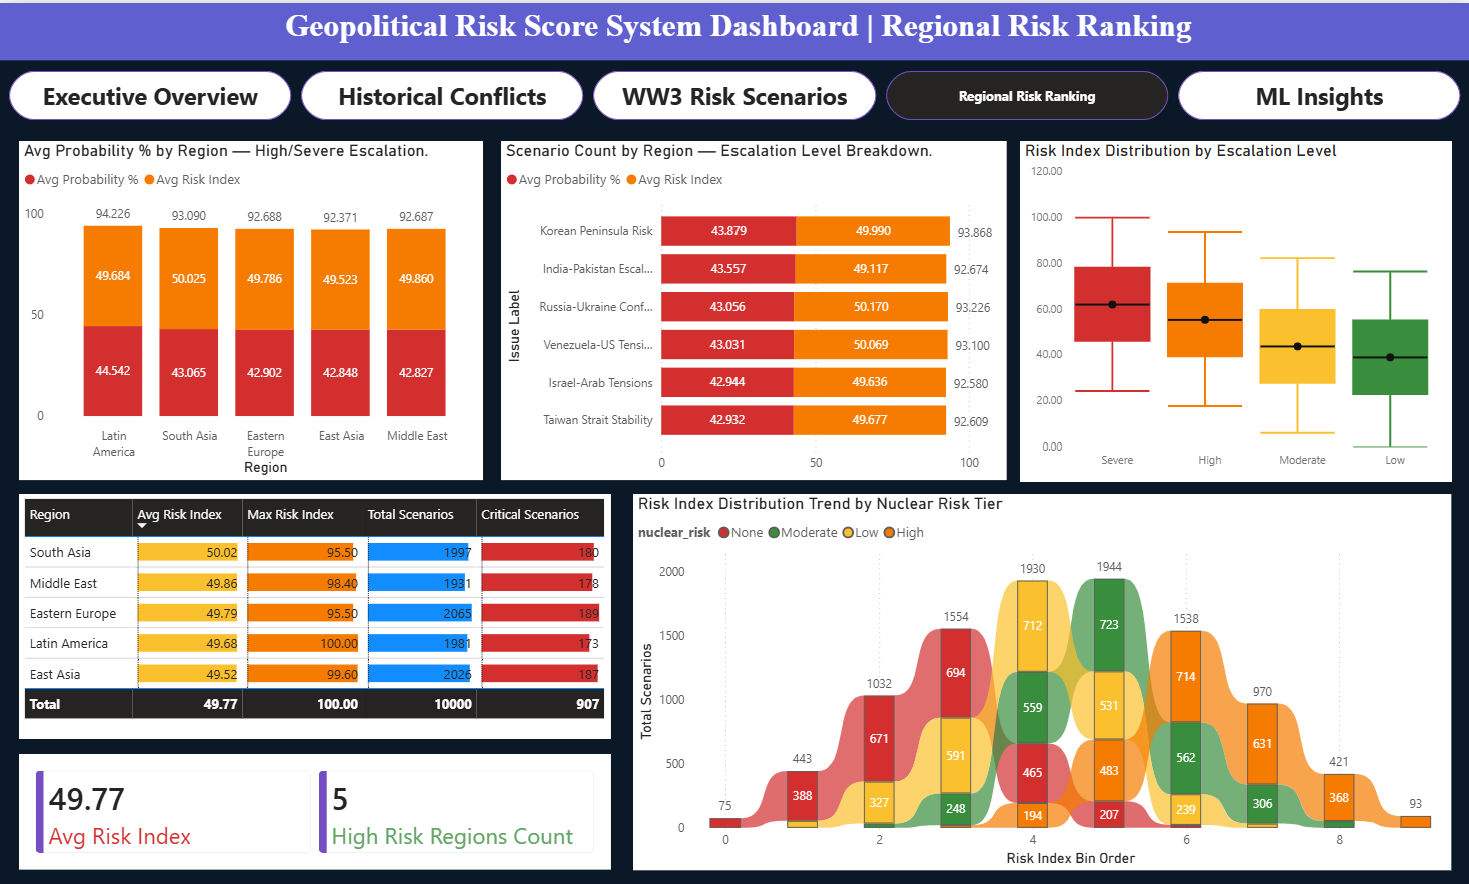

The page's visual inventory and layout, read from the dashboard file:
{"tool":"powerbi","page":{"name":"Regional Risk Ranking","canvas":[1500,900],"ordinal":3},"visuals":[{"type":"textbox","box":[0,0,1500,58.6],"z":0},{"type":"columnChart","title":"Avg Probability % by Region — High/Severe Escalation.","fields":{"Category":["FactRisk.region"],"Y":["_Measure.Avg Probability %","_Measure.Avg Risk Index"]},"box":[20,140,473.3,345],"z":1000},{"type":"barChart","title":"Scenario Count by Region — Escalation Level Breakdown.","fields":{"Y":["_Measure.Avg Probability %","_Measure.Avg Risk Index"],"Category":["FactRisk.issue_label"]},"box":[511.7,140,515,345],"z":2000},{"type":"tableEx","fields":{"Values":["DimRegionalRisk.region","_Measure.Avg Risk Index","_Measure.Max Risk Index","_Measure.Total Scenarios","_Measure.Critical Scenarios"]},"box":[20,500,604,250],"z":3000},{"type":"BoxWhiskerChart1455240051538","title":"Risk Index Distribution by Escalation Level","fields":{"Values":["_Measure.Avg Risk Index"],"Samples":["FactRisk.risk_index"],"Groups":["FactRisk.escalation_level"]},"box":[1040,140,440,346.7],"z":4000},{"type":"ribbonChart","title":"Risk Index Distribution Trend by Nuclear Risk Tier","fields":{"Category":["FactRisk.Risk Index Bin Order"],"Series":["FactRisk.nuclear_risk"],"Y":["_Measure.Total Scenarios"]},"box":[646,500,834,384],"z":5000},{"type":"cardVisual","fields":{"Data":["_Measure.Avg Risk Index","_Measure.High Risk Regions Count"]},"box":[20,766,604,118],"z":6000},{"type":"pageNavigator","box":[10,70,1480,50],"z":7000}]}

Visuals, with their boxes in screenshot pixels (x1, y1, x2, y2), scaled from the page's 1500x900 canvas onto the 1469x884 screenshot:
textbox: box=[0, 0, 1468, 58]
"Avg Probability % by Region — High/Severe Escalation." columnChart: box=[20, 138, 483, 476]
"Scenario Count by Region — Escalation Level Breakdown." barChart: box=[501, 138, 1005, 476]
tableEx - DimRegionalRisk.region x _Measure.Avg Risk Index: box=[20, 491, 611, 737]
"Risk Index Distribution by Escalation Level" BoxWhiskerChart1455240051538: box=[1019, 138, 1449, 478]
"Risk Index Distribution Trend by Nuclear Risk Tier" ribbonChart: box=[633, 491, 1449, 868]
cardVisual - _Measure.Avg Risk Index x _Measure.High Risk Regions Count: box=[20, 752, 611, 868]
pageNavigator: box=[10, 69, 1459, 118]
